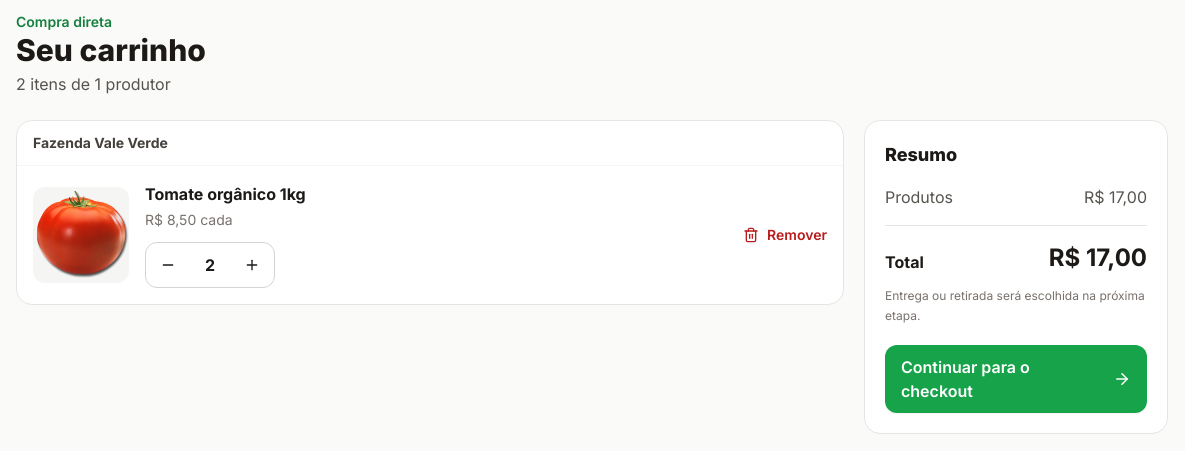
atualiza quantidade, total e remoção do produto
Expected: the text "R$ 17,00" next to "Total" is shown, x1=1049 y1=243 x2=1147 y2=272
Click the button named "Aumentar quantidade de Tomate orgânico 1kg". click: (252, 265)
box: x1=230 y1=243 x2=274 y2=287
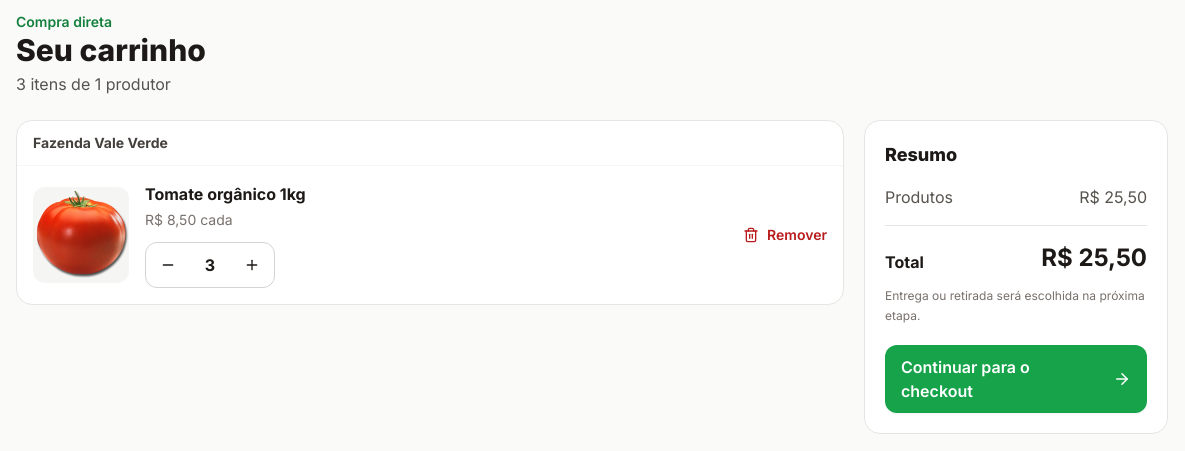
Now the text "R$ 25,50" next to "Total" is shown, box x1=1041 y1=243 x2=1147 y2=272
Click the button with aria-label "Remover Tomate orgânico 1kg". click: (785, 235)
box: x1=743 y1=213 x2=827 y2=257
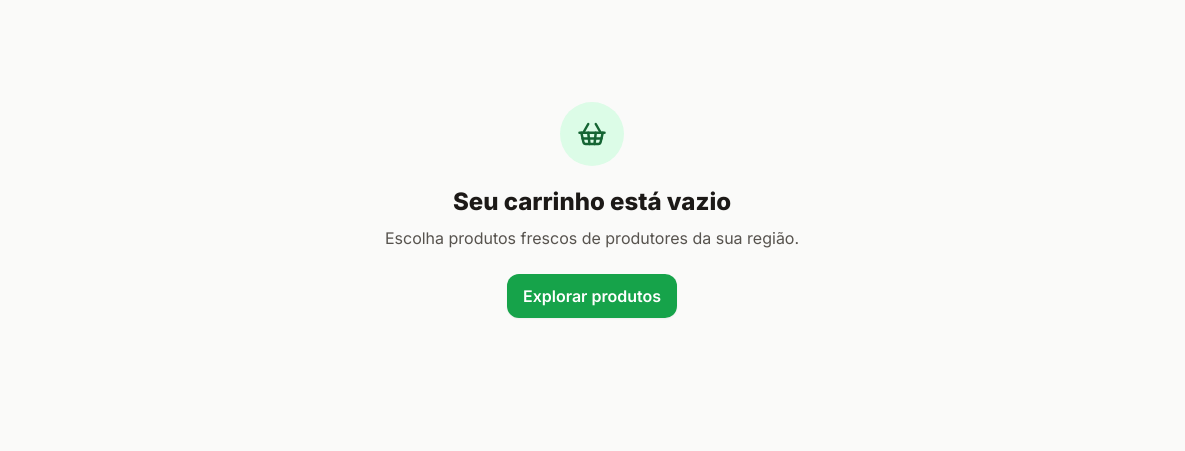
Now the heading "Seu carrinho está vazio" is shown, box x1=453 y1=187 x2=731 y2=216
